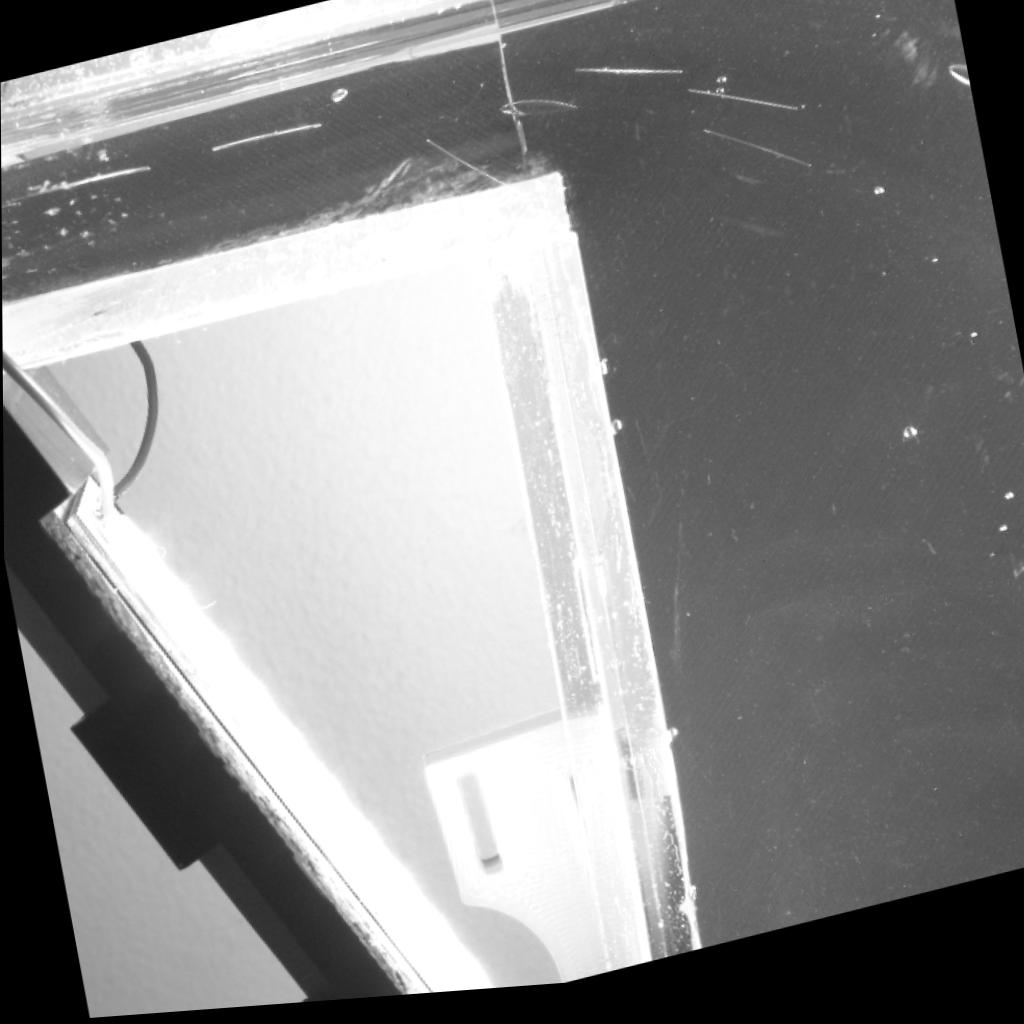Fiber: (700, 136, 813, 182), (422, 143, 509, 196), (211, 123, 324, 158), (686, 96, 799, 124), (63, 165, 152, 192), (574, 75, 685, 87)
